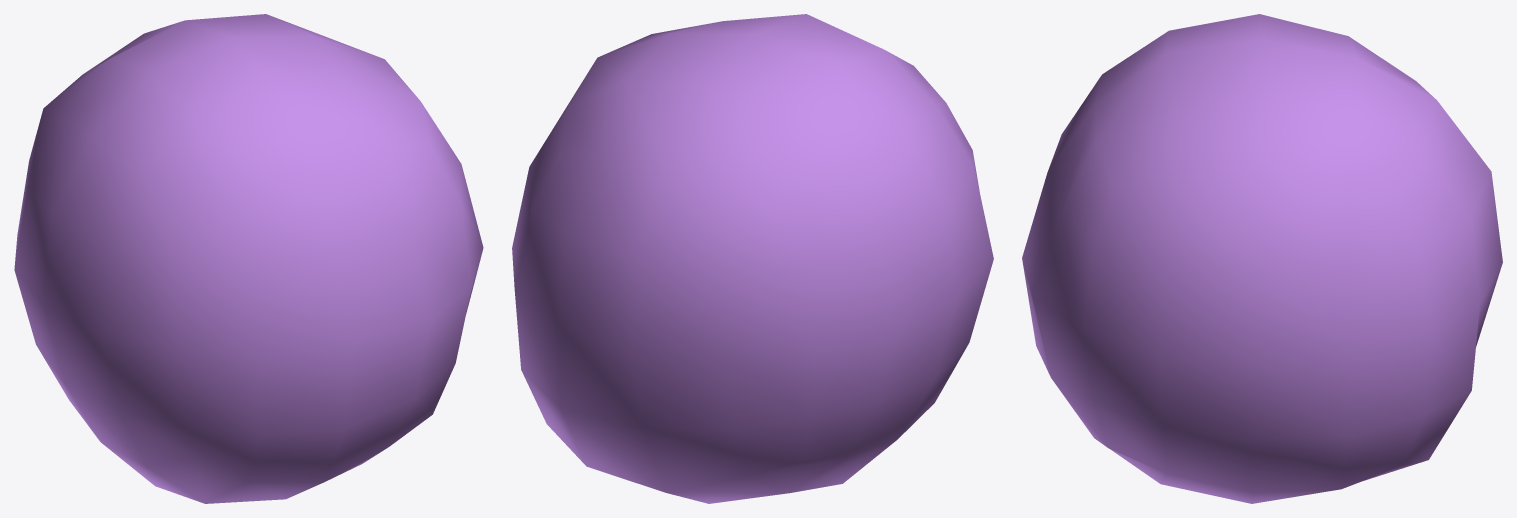
File: peroxisome.fbx
3 renders of one model, left to right at view 1: azimuth 30°, elevation 25°; view 2: azimuth 150°, elevation 25°; view 3: azimuth 270°, elevation 25°, orthographic. The views are drawn at different scales.
Visible parts, largest first — view 1: Peroxisome_membrane; view 2: Peroxisome_membrane; view 3: Peroxisome_membrane.
Part boxes in pixels (x1=…): Peroxisome_membrane: x1=14, y1=14, x2=483, y2=503; Peroxisome_membrane: x1=512, y1=14, x2=993, y2=503; Peroxisome_membrane: x1=1022, y1=14, x2=1502, y2=503.
Size of the model in its own units: 107 by 113 by 111.
